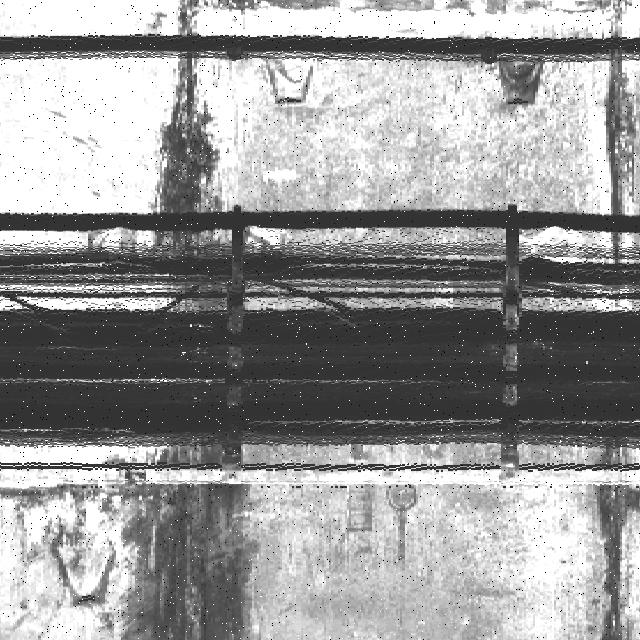leakage: (117, 448, 264, 640), (150, 6, 228, 317), (589, 1, 640, 270), (591, 448, 638, 640)
